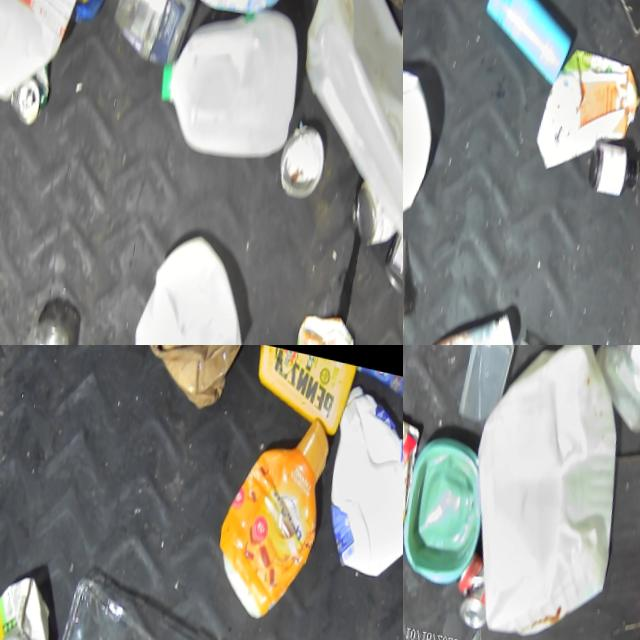can: (104, 0, 204, 70), (341, 161, 402, 242), (0, 46, 60, 127), (452, 545, 490, 630), (373, 216, 403, 295)
milk_jug: (449, 345, 640, 640), (279, 0, 403, 239), (144, 0, 304, 168), (119, 212, 260, 345), (312, 377, 403, 582), (0, 0, 100, 110), (403, 50, 440, 251)
non_white_jug: (206, 399, 332, 622)
plastic_bottle: (3, 291, 87, 345)
